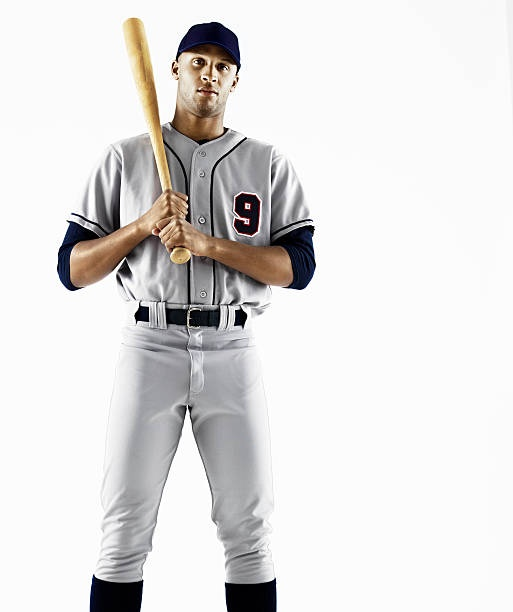bita: (125, 14, 190, 258)
